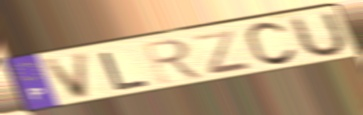C: (243, 20, 301, 68)
L: (99, 49, 153, 92)
R: (140, 37, 209, 86)
U: (289, 10, 349, 61)
V: (42, 50, 91, 102)
Z: (191, 28, 255, 77)
